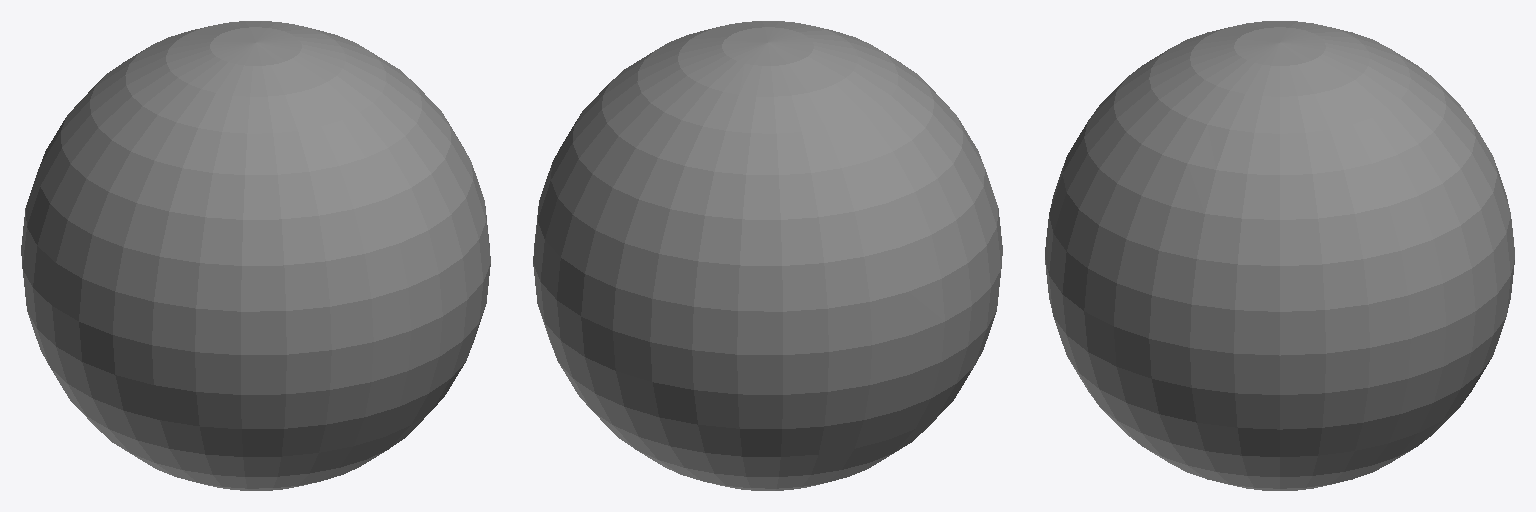
Rendered from moon.obj.
3 views of the same model, side by side, from view 1: azimuth 30°, elevation 25°; view 2: azimuth 150°, elevation 25°; view 3: azimuth 270°, elevation 25° (orthographic).
Parts seen in each view (by area): view 1: Sphere001; view 2: Sphere001; view 3: Sphere001.
Part boxes in pixels (bbox=[...]): Sphere001: bbox=[21, 21, 490, 490]; Sphere001: bbox=[533, 21, 1002, 490]; Sphere001: bbox=[1045, 21, 1514, 490].
Bounding box in the file's own units: 30 × 30 × 30.